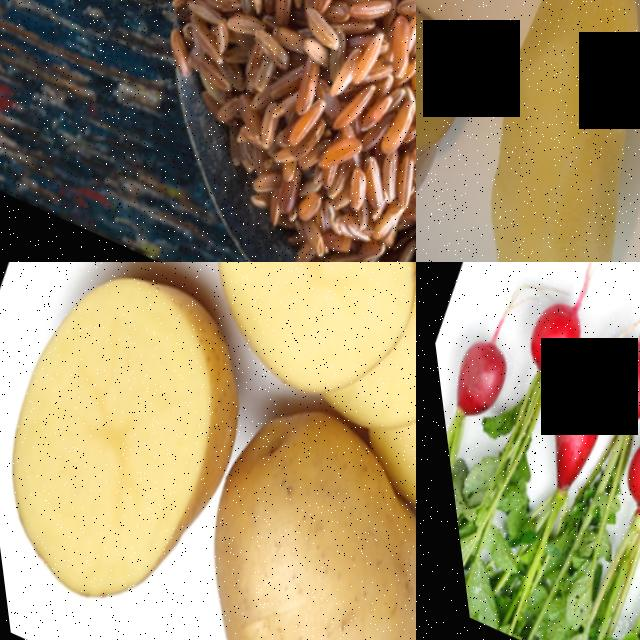potato: (0, 262, 300, 640), (103, 380, 416, 640), (416, 0, 640, 262), (416, 0, 506, 253), (567, 0, 640, 262)
radishes: (420, 262, 612, 540), (491, 310, 640, 570)
red rice: (88, 0, 416, 262)
